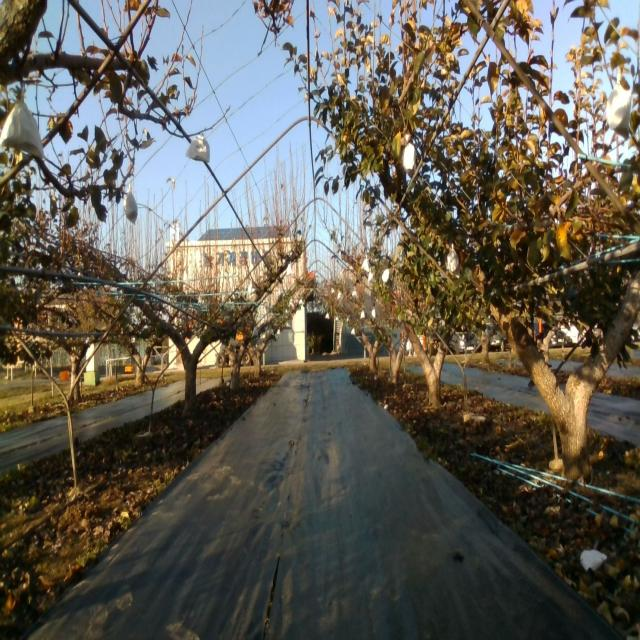pearbags: (0, 99, 44, 157), (604, 81, 632, 134), (186, 132, 209, 166), (123, 184, 138, 226), (402, 143, 416, 176), (447, 248, 460, 275)
